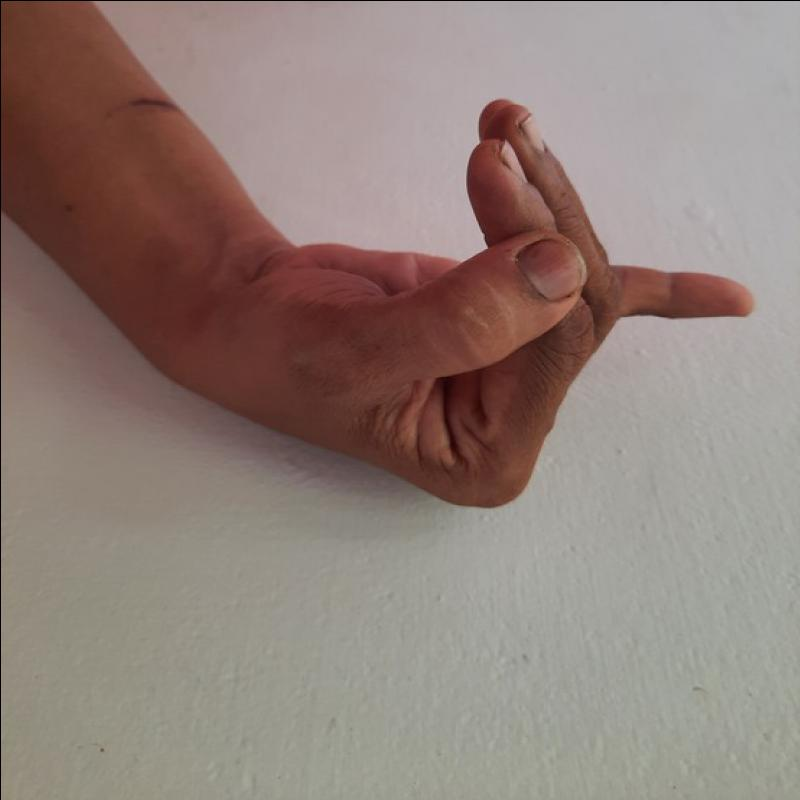Kartharee Mukham: (219, 83, 761, 540)
